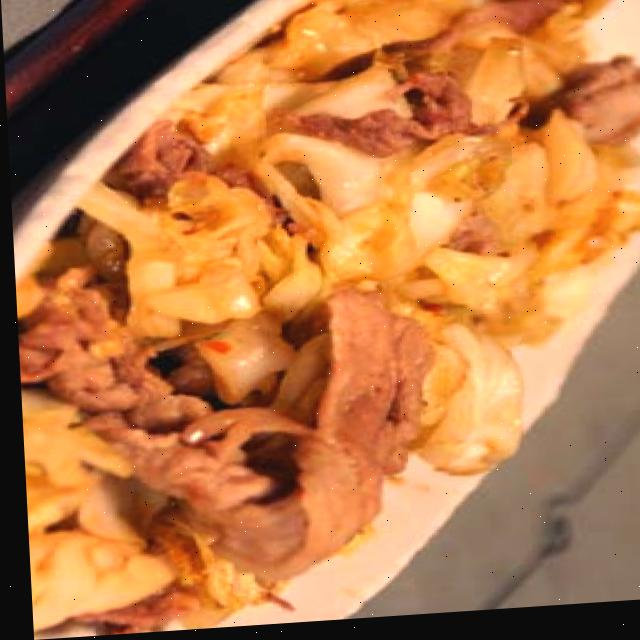蔬菜料理: (50, 0, 565, 603)
